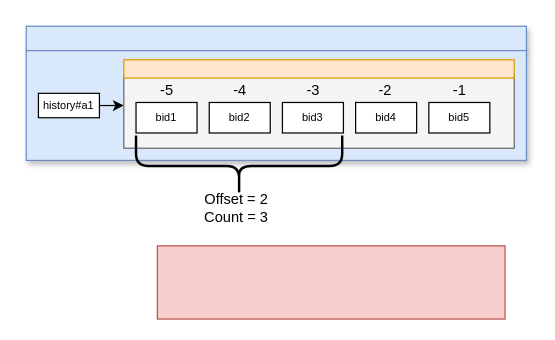
This 555x340 diagram has some shape labels left out. Each missing label, with the centre of its shape:
List: pixel 318 68
LRANGE history#a1 (-1 * offset - count) (-1 - offset): pixel 330 282
Redis: pixel 277 39
